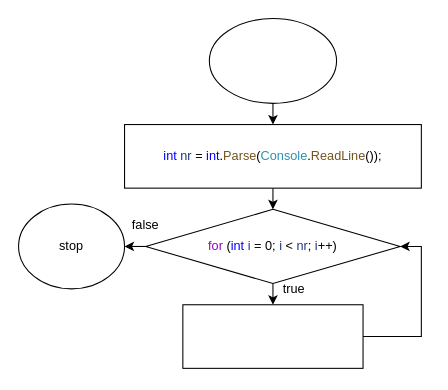
The diagram is 448 pixels wide and 390 high, and some of its shapes have lost their labels. Each missing label, with the centre of its shape:
Console . WriteLine ( "*" );: [272,336]
start: [272,60]
